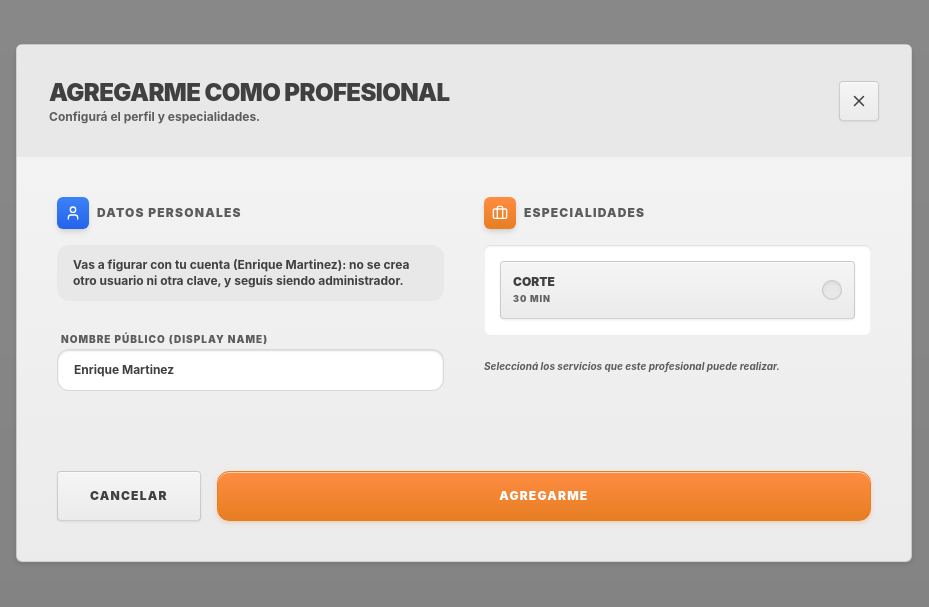
StaffFormModal: errores por campo › la validacion del cliente sobre service_ids dice que falta un servicio
Click the button "Agregarme".
click(544, 496)  # box left=217, top=471, right=871, bottom=521
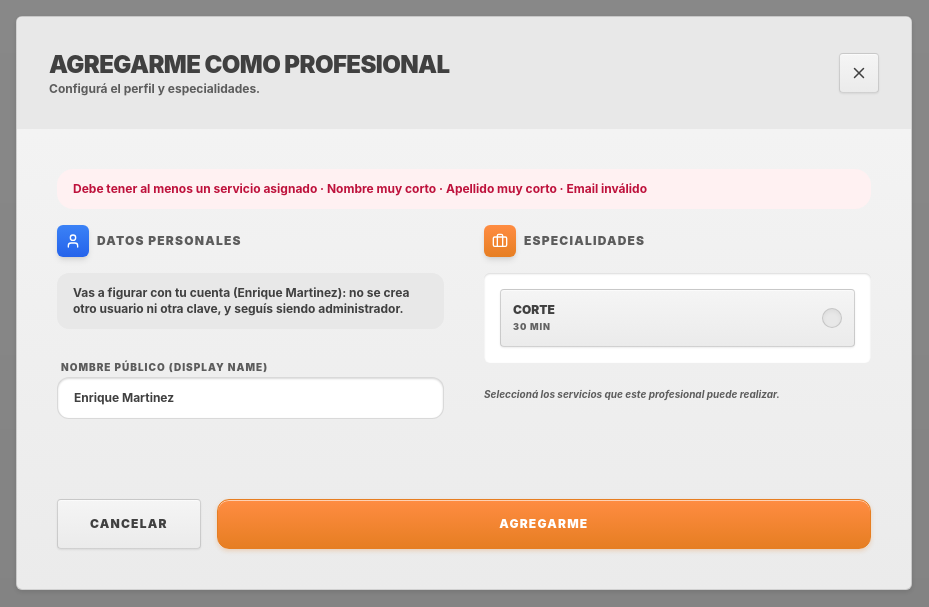
Expected: the message does not show "No se pudo guardar", left=57, top=169, right=871, bottom=209
Expected: the message shows "Debe tener al menos un servicio asignado", left=73, top=181, right=647, bottom=196
